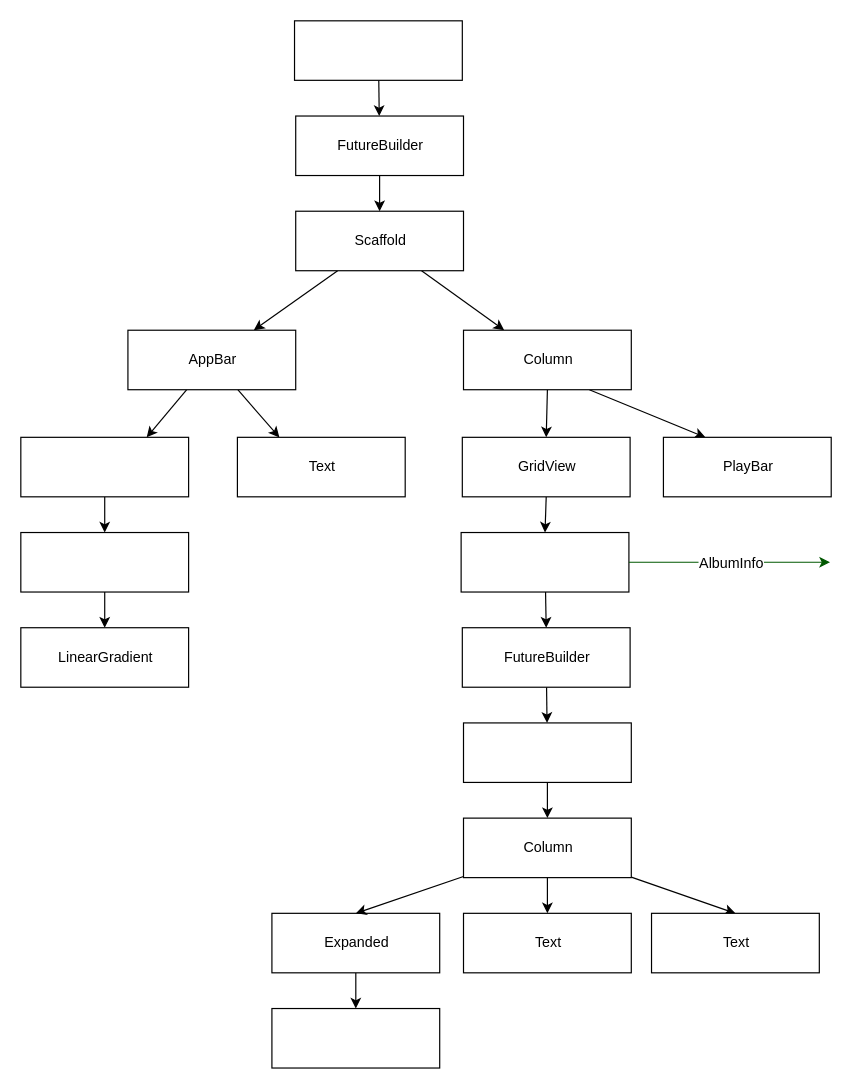
Image size: 860x1089. Some labels were removed from this diagram. The shapes that lost their labels are listed below. From the top down, each one's box as (x1, y1, x2, y2) in pixels, then its label:
(293, 20, 462, 80): OrientationBuilder
(20, 436, 189, 497): Container
(20, 531, 189, 592): BoxDecoration
(460, 531, 629, 592): IconButton
(462, 722, 631, 782): Card
(271, 1007, 440, 1068): Image
